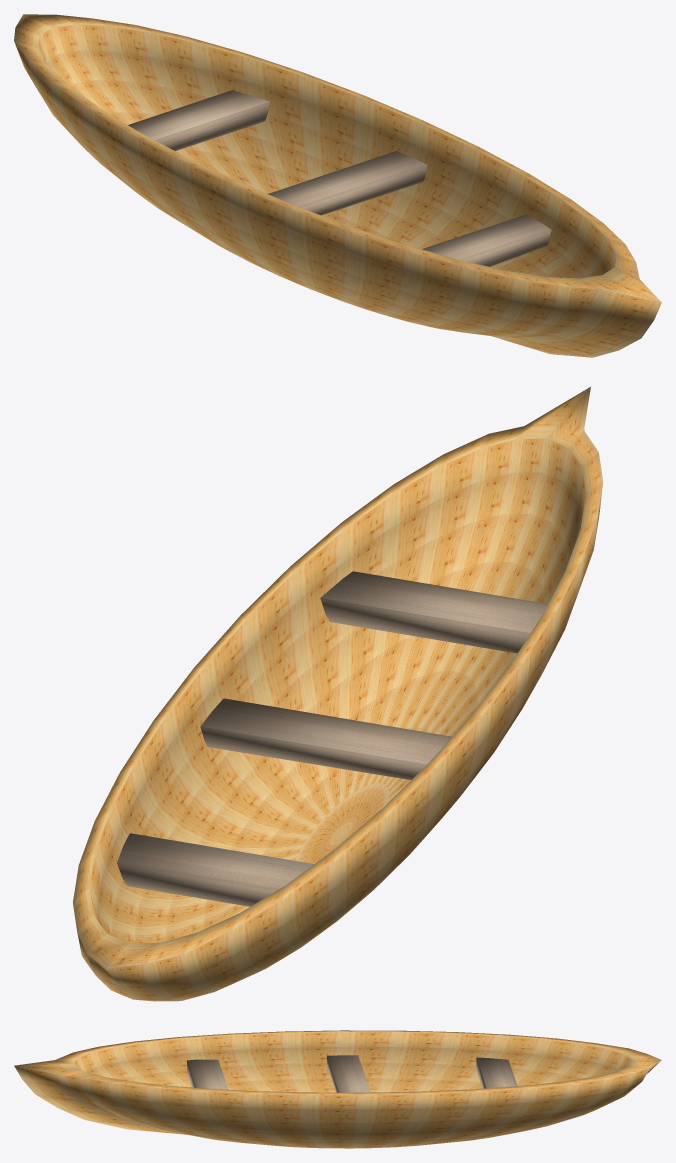
Rendered from barca.obj.
3 views of the same model, one above another, from view 1: azimuth 30°, elevation 25°; view 2: azimuth 150°, elevation 25°; view 3: azimuth 270°, elevation 25° (orthographic). The views are drawn at different scales.
Parts seen in each view (by area): view 1: Sphere.001, Cube.001, Cube.002, Cube; view 2: Sphere.001, Cube.001, Cube, Cube.002; view 3: Sphere.001, Cube.001, Cube.002, Cube.
Boxes of the visible parts, x1,y1,x2,y2 form: Sphere.001: [14, 14, 661, 357]; Cube.001: [268, 151, 427, 215]; Cube.002: [128, 90, 269, 150]; Cube: [422, 214, 551, 266]; Sphere.001: [73, 386, 602, 1001]; Cube.001: [200, 698, 451, 779]; Cube: [320, 571, 547, 653]; Cube.002: [117, 833, 314, 906]; Sphere.001: [14, 1030, 661, 1148]; Cube.001: [326, 1055, 370, 1092]; Cube.002: [476, 1057, 517, 1088]; Cube: [187, 1059, 228, 1089].
Bounding box in the file's own units: 3.93 × 2.43 × 14.45.
Materials: 4 (4 with a texture image).
